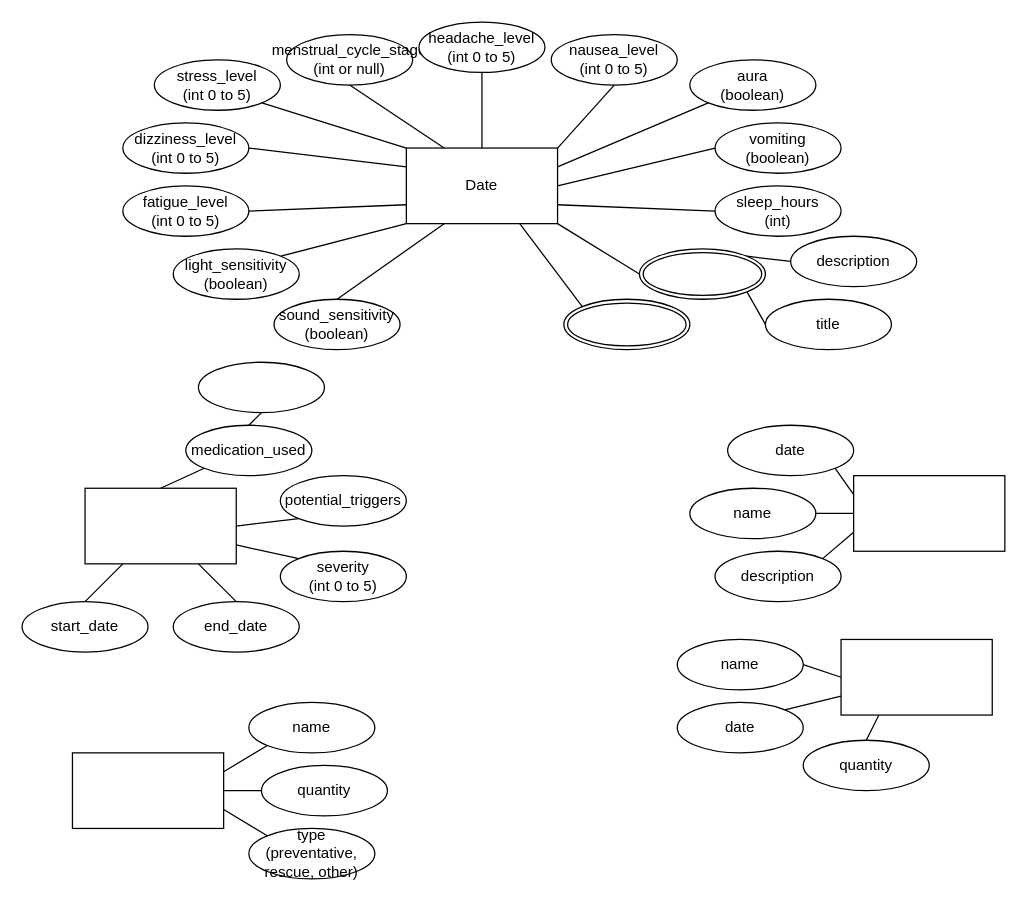
This 1027x902 diagram has some shape labels left out. The shapes that lost their labels are listed below. From the top down, each one's centre as x and y in pixels, then its label:
pixel 701 273: other_event
pixel 626 324: medication_taken
pixel 260 387: efficacy
pixel 160 525: Migraine
pixel 928 512: Trigger
pixel 916 676: Trigger Food
pixel 147 790: Medication
